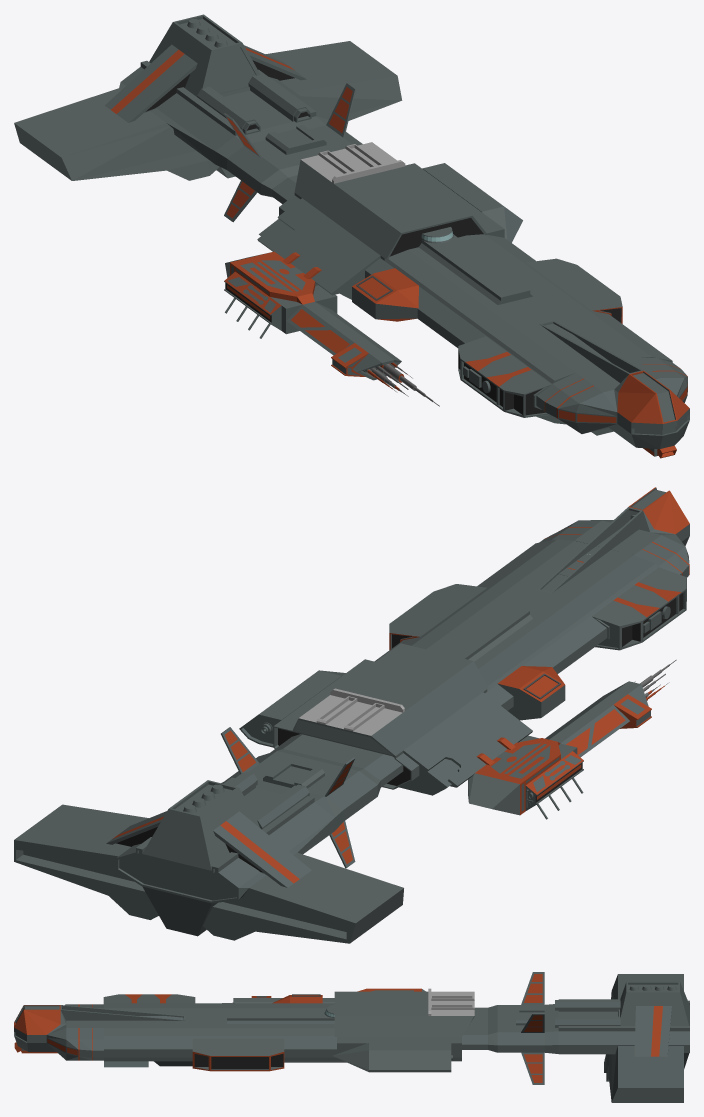
The model's file is Crusier3.obj.
The picture shows the model from 3 angles, top to bottom: view 1: azimuth 30°, elevation 25°; view 2: azimuth 150°, elevation 25°; view 3: azimuth 270°, elevation 25°; orthographic projection. The views are drawn at different scales.
Visible parts, largest first — view 1: Layer0_001.001; view 2: Layer0_001.001; view 3: Layer0_001.001.
Part boxes in pixels (x1,y1,x2,y2): Layer0_001.001: (14,14,689,458); Layer0_001.001: (14,487,689,943); Layer0_001.001: (14,972,689,1102).
Size of the model in its own units: 0.7901 by 0.2645 by 1.98.
